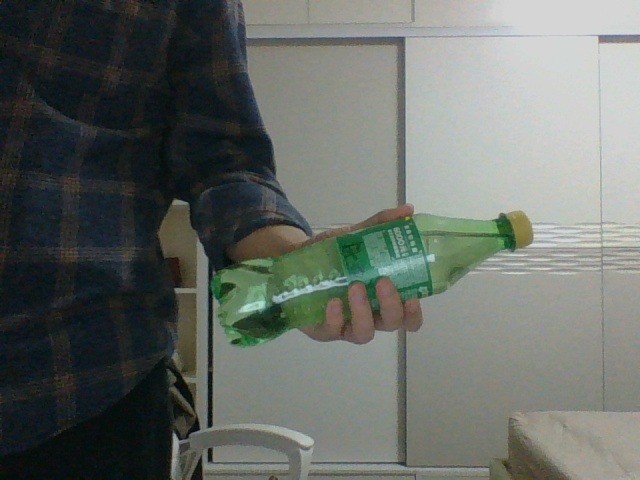Sprite: (209, 211, 535, 349)
